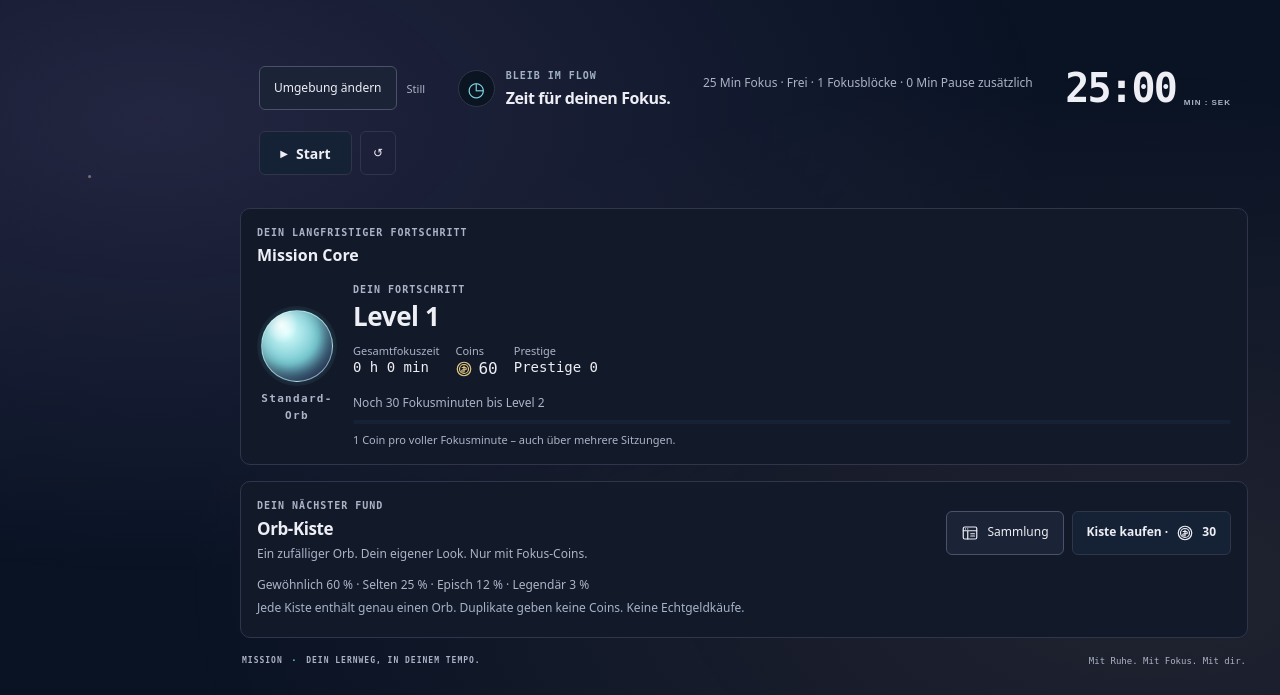
Test case: Kisten und Sammlung in der App › zeigt bei reduzierter Bewegung sofort das Ergebnis und deaktiviert Orb-Animationen per CSS
(page scrolled)
Click the button with aria-label "Kiste kaufen · 30 Coins" at (1151, 533), box [1072,511,1231,555]
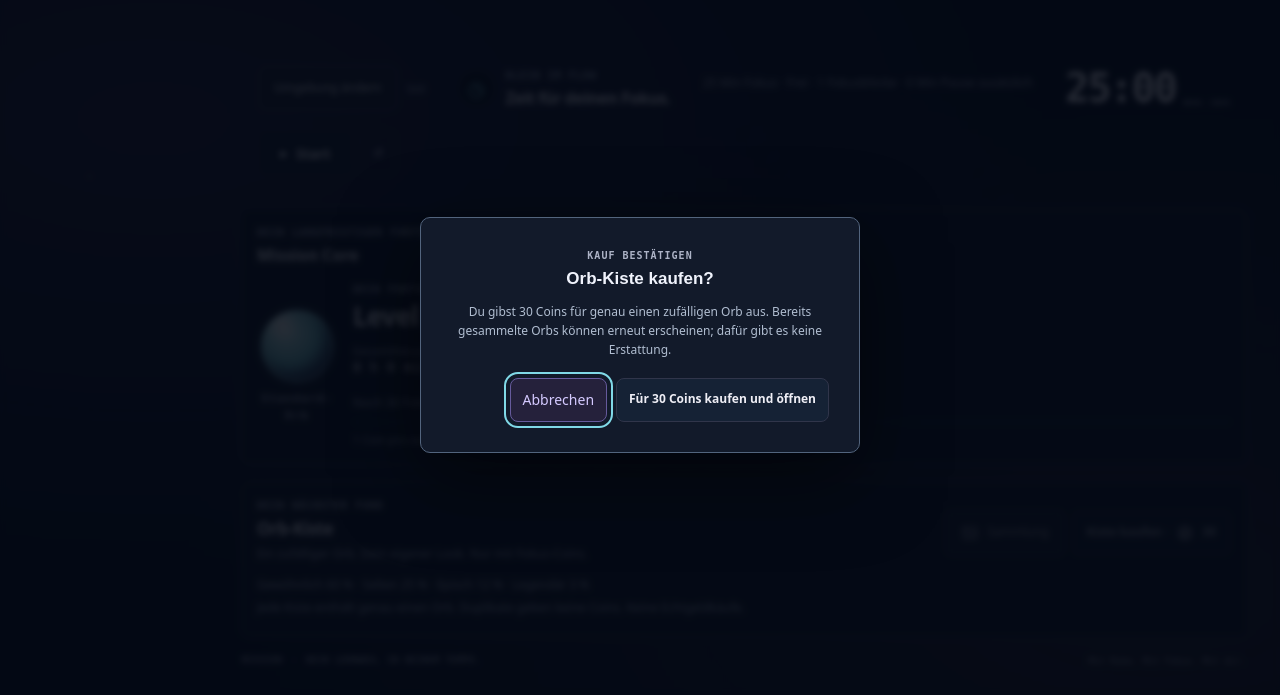
Click the button "Für 30 Coins kaufen und öffnen" at (722, 400), box [616,378,829,422]
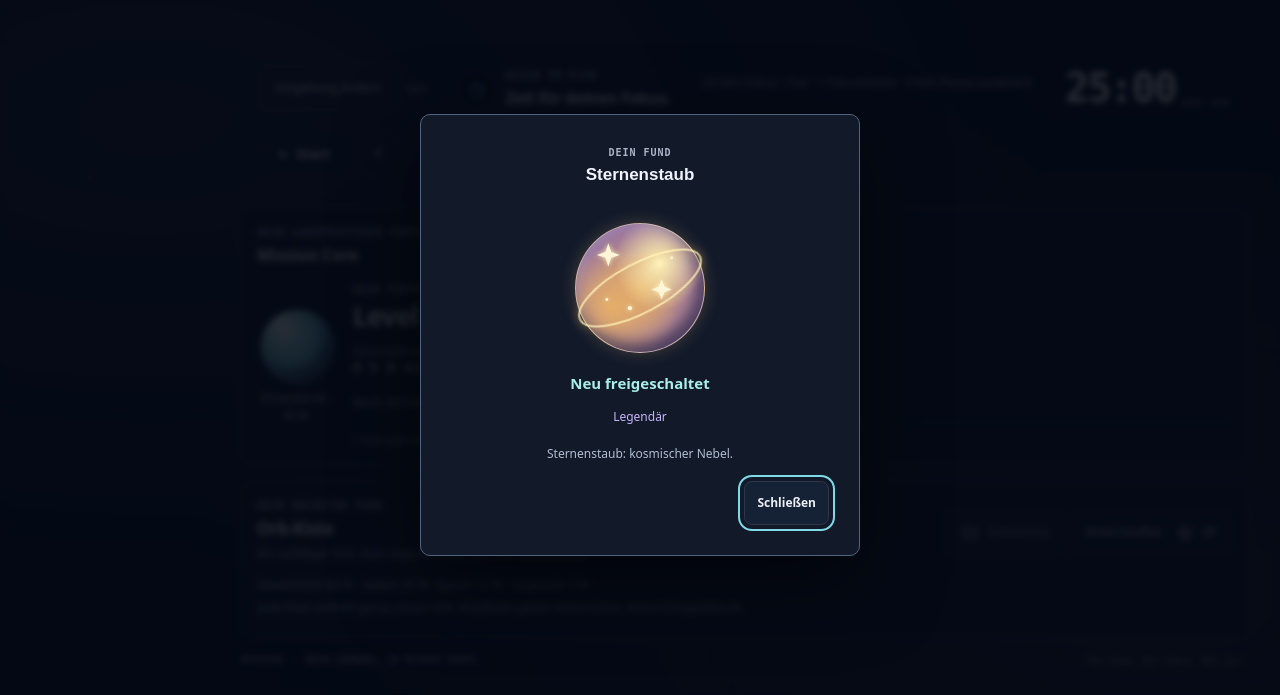
Result: the dialog "Sternenstaub" is shown at [420,114,860,556]
